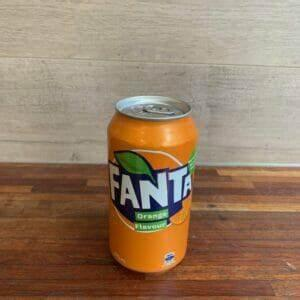metal: (108, 97, 199, 273)
